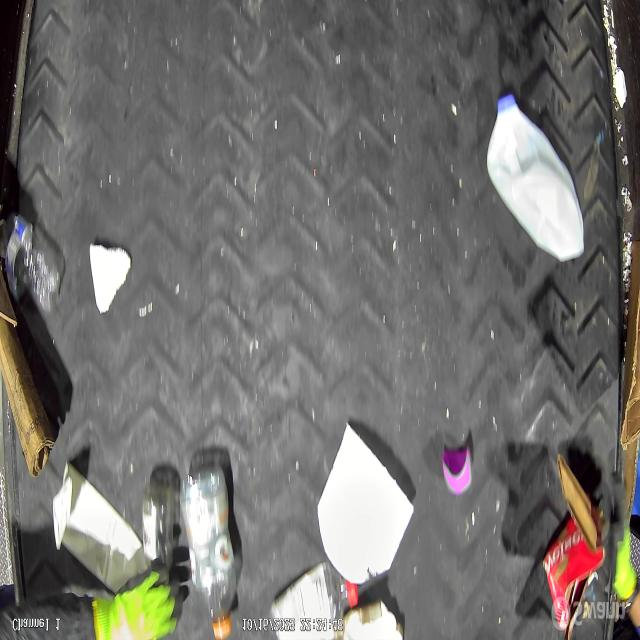milk_jug: (487, 94, 586, 264)
plastic_bottle: (185, 460, 238, 638), (4, 214, 64, 312), (322, 564, 358, 636)
